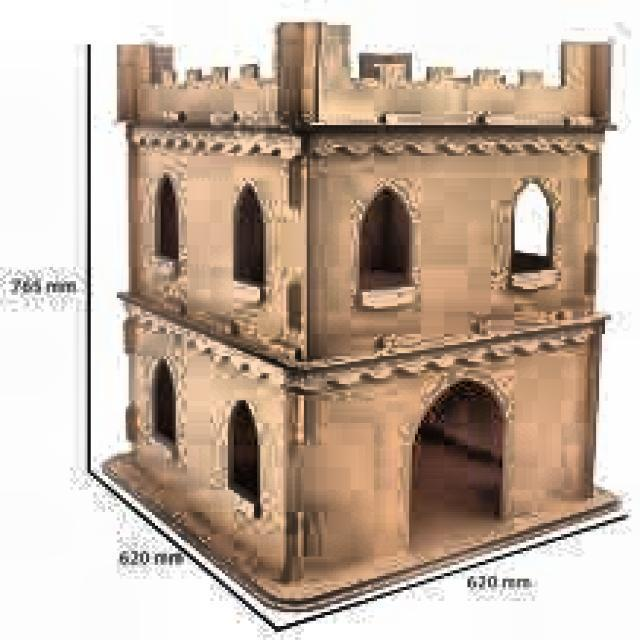cardboard: (90, 17, 626, 629)
